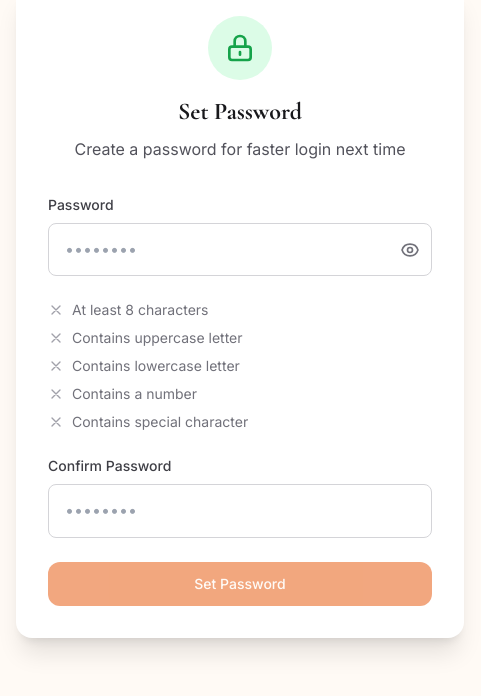
it: SetPasswordForm › shows passwords do not match message when different
The width and height of the screenshot is (481, 696).
Type "SecurePassword123!" into the password field labelled "Password" at (240, 250), box [48,223,432,276]
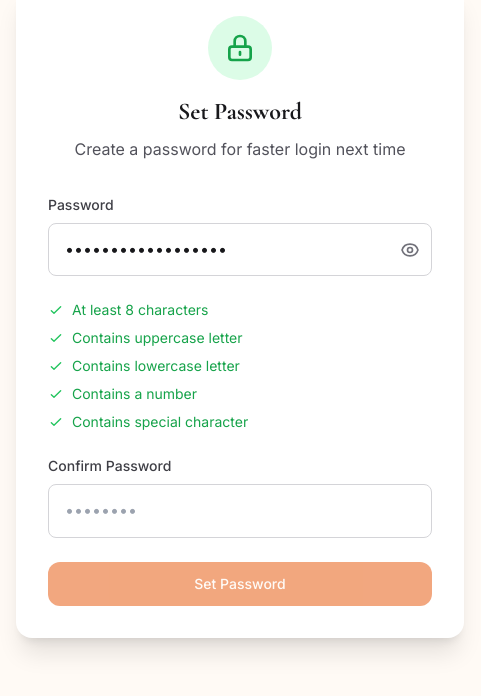
Type "DifferentPassword123!" into the password field labelled "Confirm Password" at (240, 511), box [48,484,432,538]
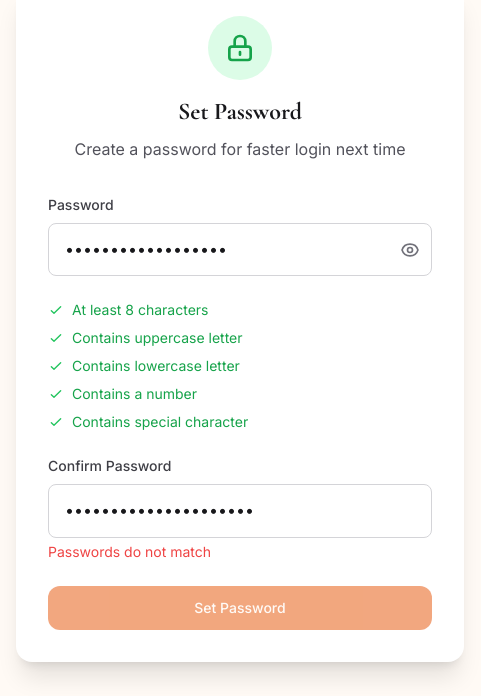
Result: the text "Passwords do not match" is shown at [48,543,211,560]
